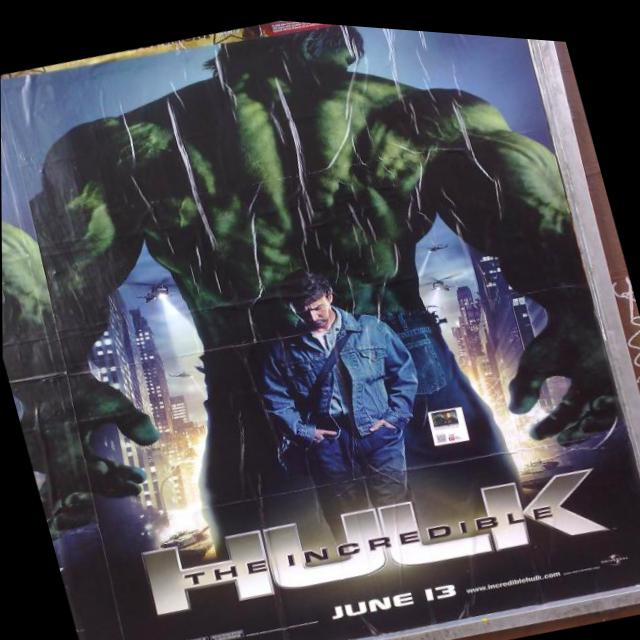qrcode: (435, 428, 445, 436)
